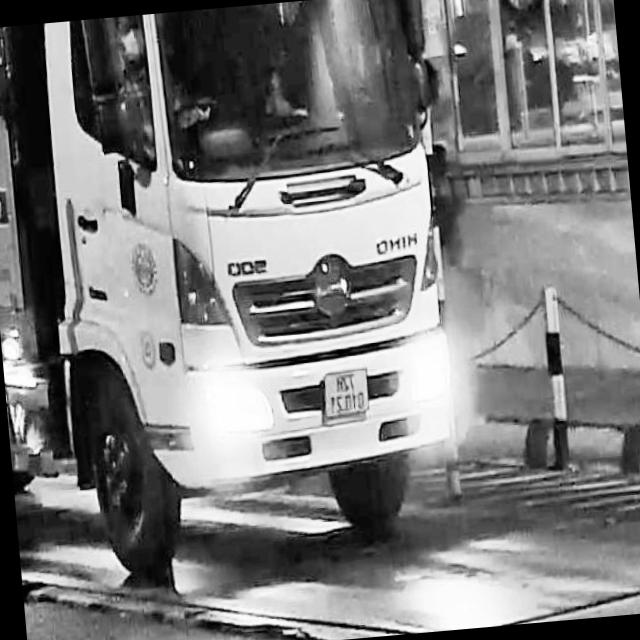Truck: (0, 0, 474, 586)
